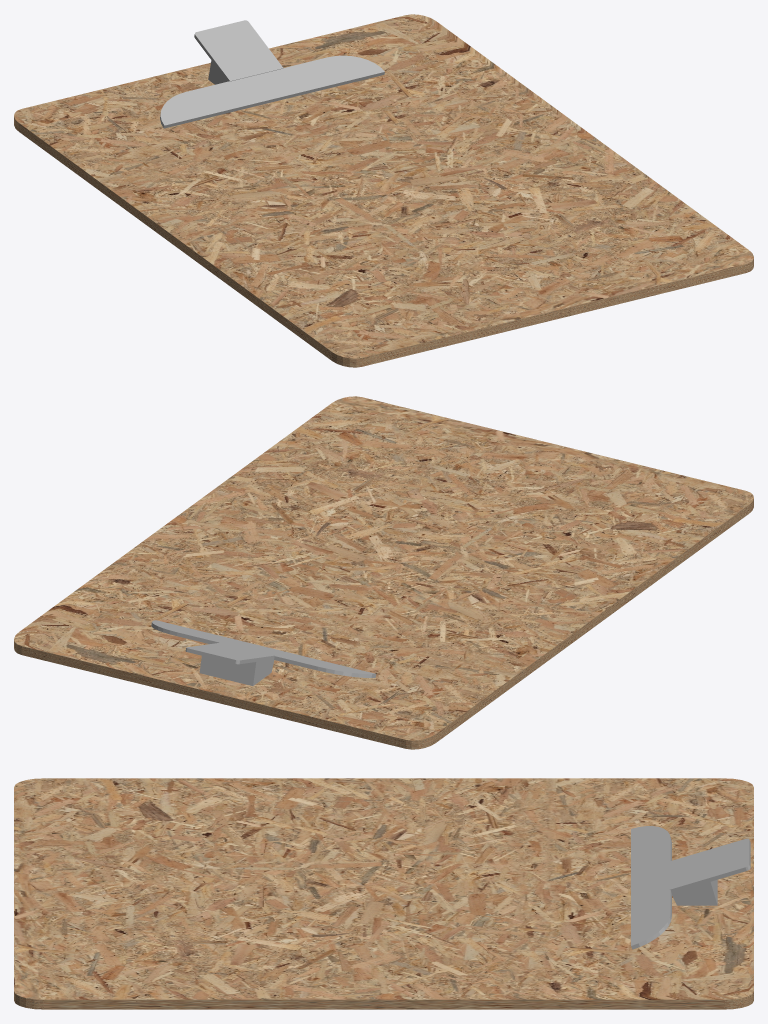
Rendered from threejsClipboard.glb.
3 renders of one model, top to bottom at view 1: azimuth 30°, elevation 25°; view 2: azimuth 150°, elevation 25°; view 3: azimuth 270°, elevation 25°, orthographic. The views are drawn at different scales.
Visible parts, largest first — view 1: Cube; view 2: Cube; view 3: Cube.
Part boxes in pixels (box(x1,y1,x2,y2)): Cube: box(14, 14, 753, 367); Cube: box(14, 396, 753, 749); Cube: box(14, 778, 753, 1009).
Size of the model in its own units: 1.42 by 0.1467 by 2.
Materials: 2 (1 with a texture image).
